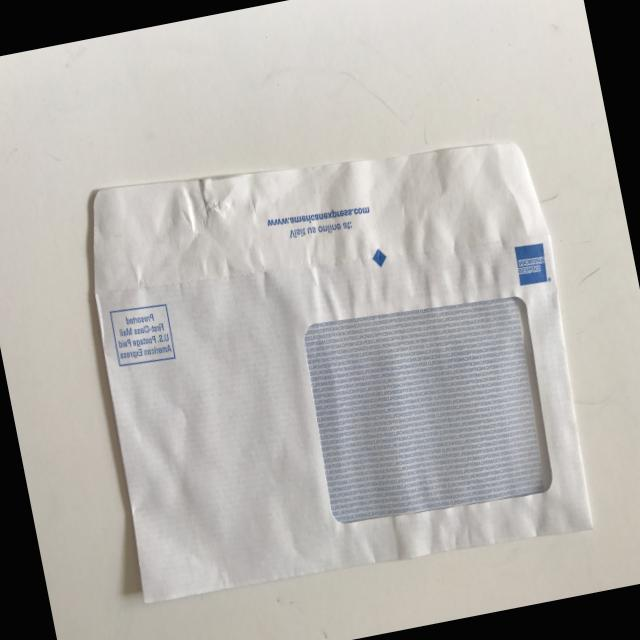Paper: (49, 77, 623, 640)
